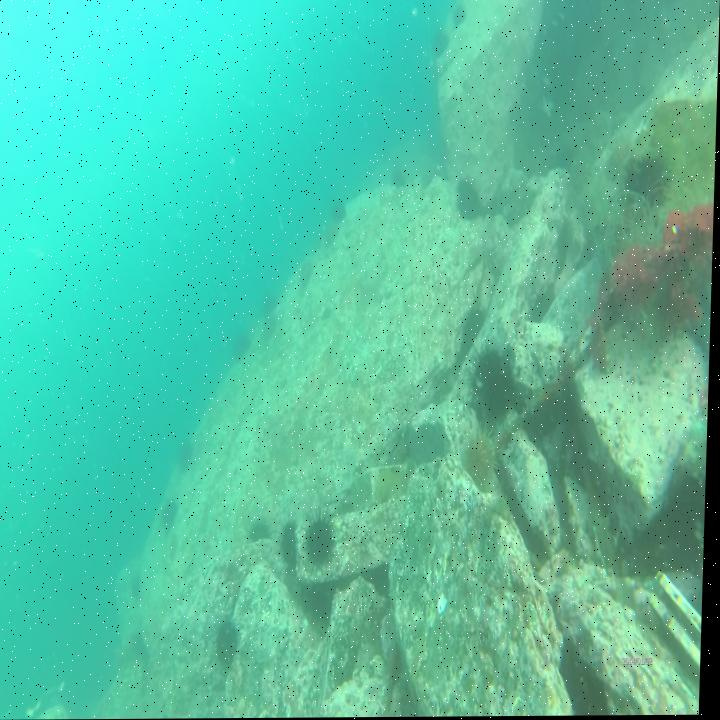echinus: (463, 425, 505, 491), (307, 504, 343, 575), (471, 344, 508, 396), (456, 174, 489, 227), (279, 516, 305, 583), (218, 615, 246, 676), (463, 305, 489, 347), (178, 438, 198, 480), (297, 257, 316, 294), (233, 331, 254, 364), (259, 291, 280, 322), (390, 163, 410, 195), (250, 521, 274, 546), (164, 499, 181, 533), (432, 32, 451, 61), (333, 197, 349, 230), (449, 4, 468, 30), (133, 570, 146, 604)
